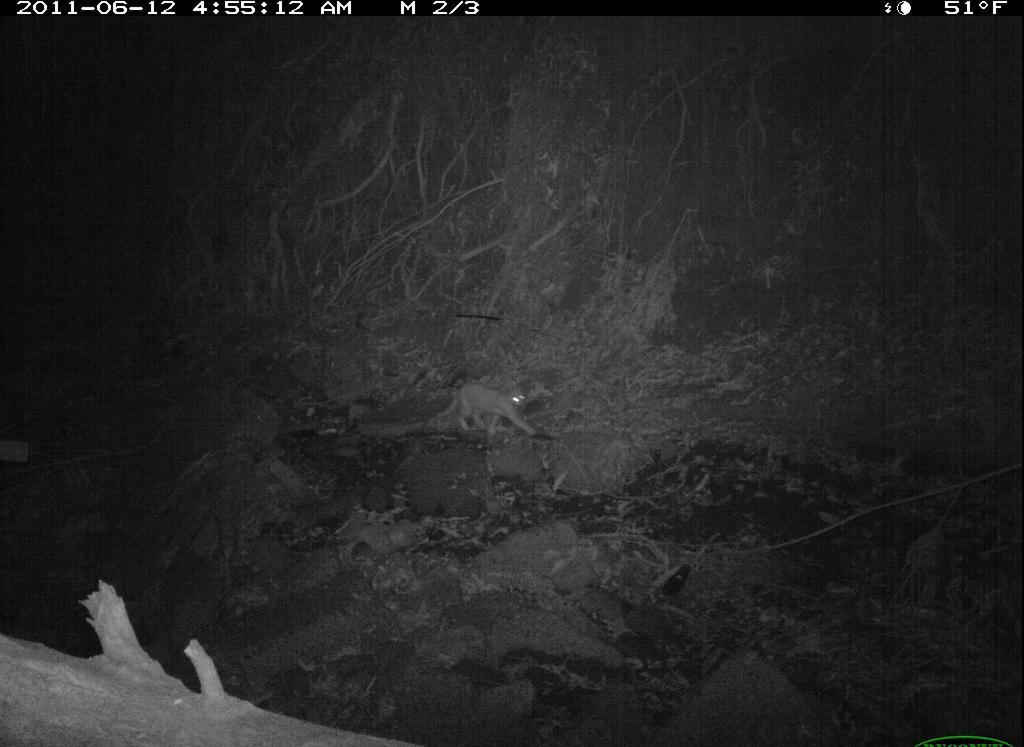cat: (406, 369, 553, 449)
